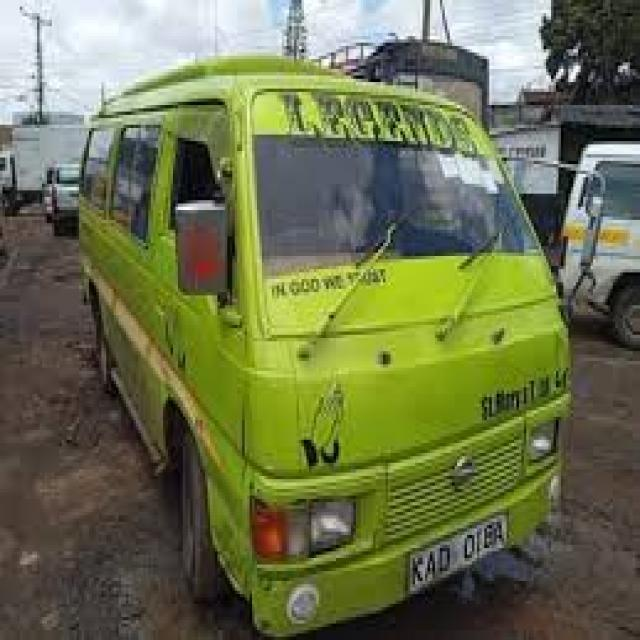matatu: (58, 45, 623, 640)
